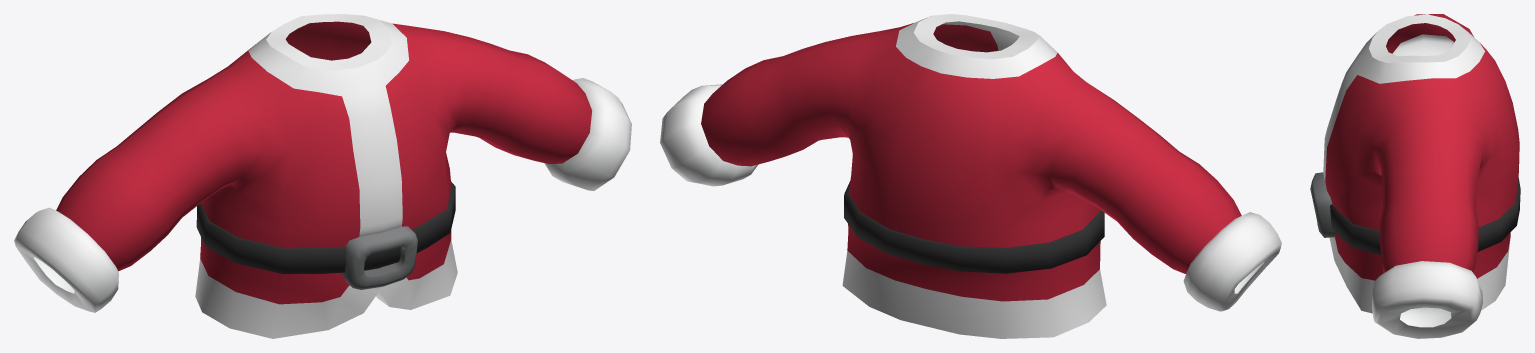
Rendered from Costume_10_01.glb.
3 views of the same model, side by side, from view 1: azimuth 30°, elevation 25°; view 2: azimuth 150°, elevation 25°; view 3: azimuth 270°, elevation 25° (orthographic). The views are drawn at different scales.
Visible parts, largest first — view 1: Costume_10_01; view 2: Costume_10_01; view 3: Costume_10_01.
Part boxes in pixels (x1,y1,x2,y2): Costume_10_01: (14,14,631,338); Costume_10_01: (660,14,1281,338); Costume_10_01: (1310,14,1520,338).
Size of the model in its own units: 0.666 by 0.2781 by 0.2268.
1 material, 1 textured.
